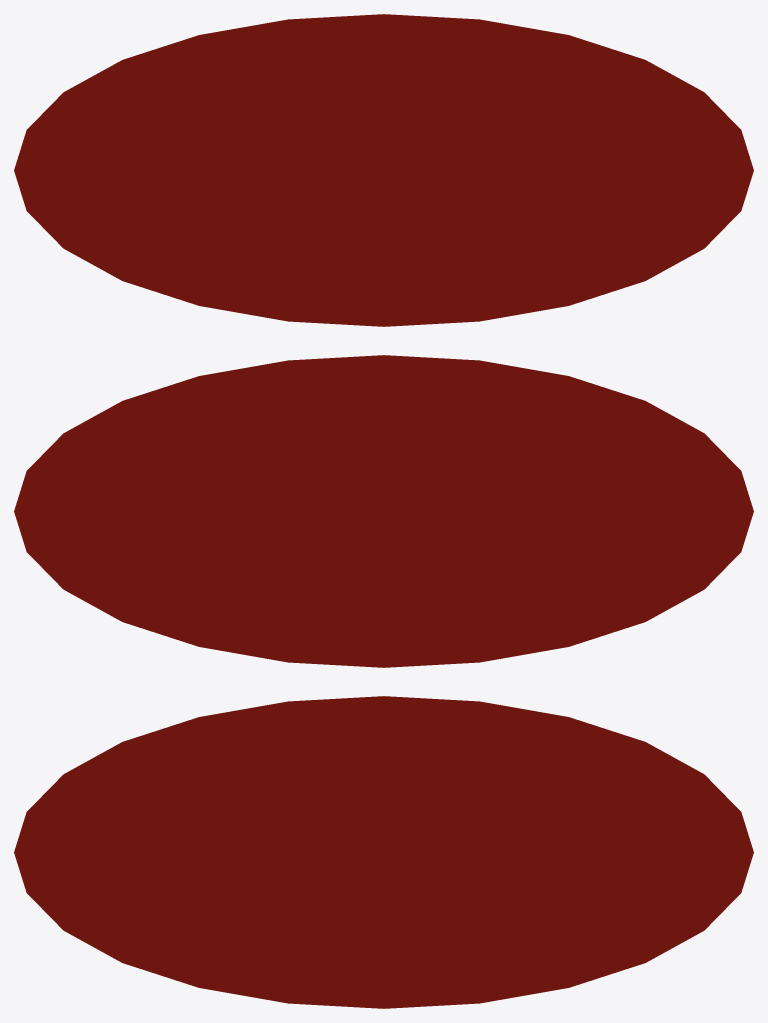
File: bbq_sauce.glb
The picture shows the model from 3 angles, top to bottom: view 1: azimuth 30°, elevation 25°; view 2: azimuth 150°, elevation 25°; view 3: azimuth 270°, elevation 25°; orthographic projection.
Parts seen in each view (by area): view 1: sauce_bbq; view 2: sauce_bbq; view 3: sauce_bbq.
Part boxes in pixels (x1,y1,x2,y2): sauce_bbq: (14, 14, 753, 326); sauce_bbq: (14, 355, 753, 667); sauce_bbq: (14, 696, 753, 1008).
Size of the model in its own units: 0.3743 by 1.26e-07 by 0.3743.
